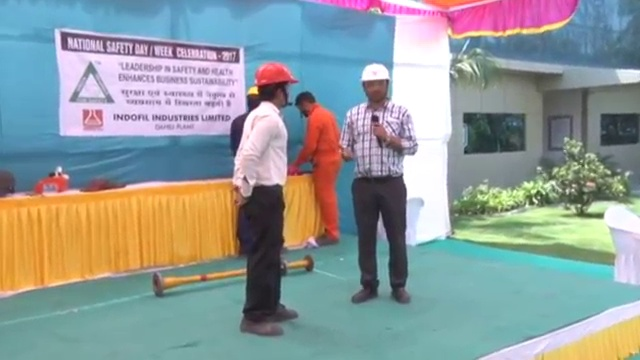helmet: (254, 62, 299, 88), (356, 62, 392, 85), (246, 84, 258, 97)
helmet_off: (293, 91, 318, 119)
helmet_on: (255, 61, 299, 114), (353, 61, 396, 111), (243, 82, 262, 111)
person: (338, 61, 419, 304), (233, 60, 297, 337), (291, 90, 341, 245), (231, 84, 262, 154)
